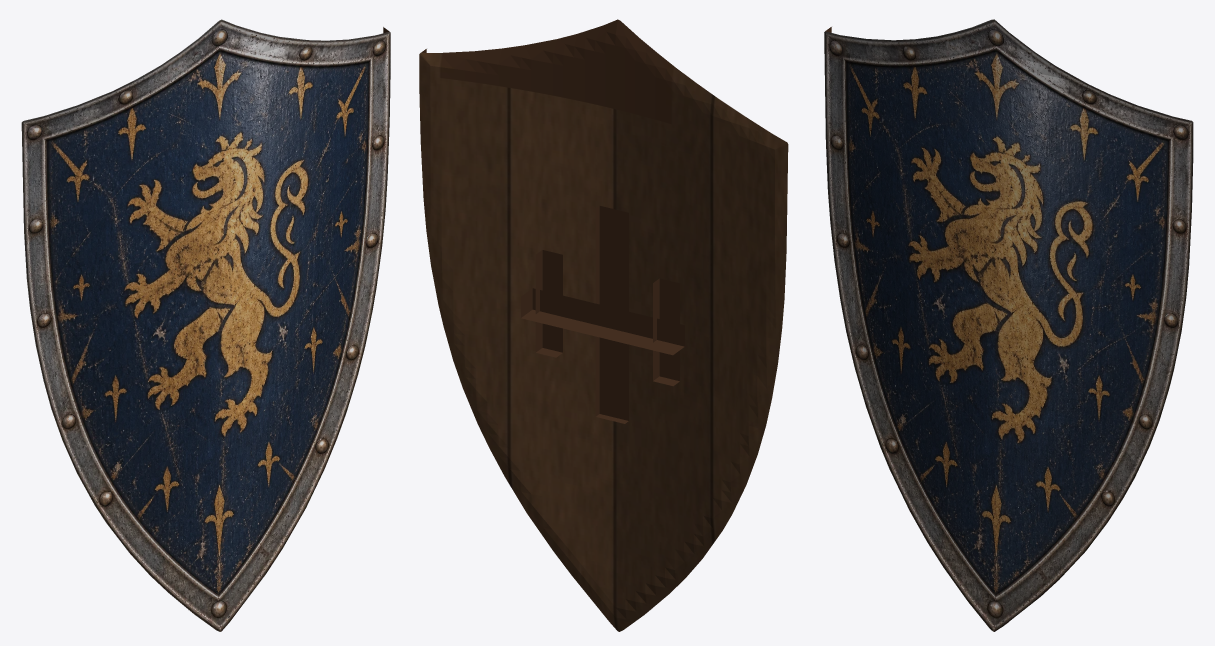
The model's file is shield-heater-lion.glb.
3 renders of one model, left to right at view 1: azimuth 30°, elevation 25°; view 2: azimuth 150°, elevation 25°; view 3: azimuth 330°, elevation 25°, orthographic.
Parts seen in each view (by area): view 1: shield-heater-lion; view 2: shield-heater-lion; view 3: shield-heater-lion.
Part boxes in pixels (x1,y1,x2,y2): shield-heater-lion: [21, 19, 390, 631]; shield-heater-lion: [419, 19, 788, 631]; shield-heater-lion: [824, 19, 1193, 631].
Bounding box in the file's own units: 0.6305 × 0.9993 × 0.0853.
Materials: 1 (1 with a texture image).
